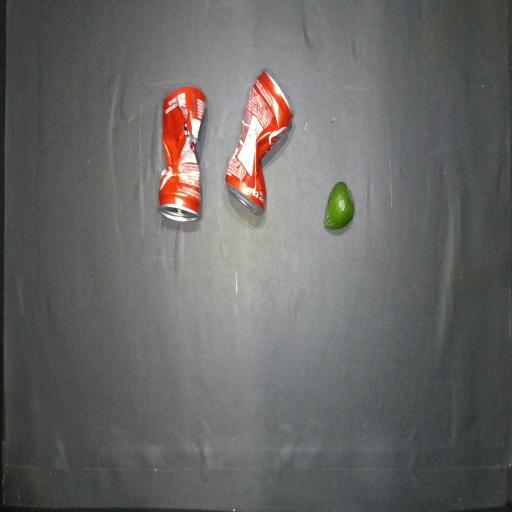higo: (324, 182, 354, 229)
lata_defectuoso: (226, 72, 293, 214), (159, 86, 206, 221)
